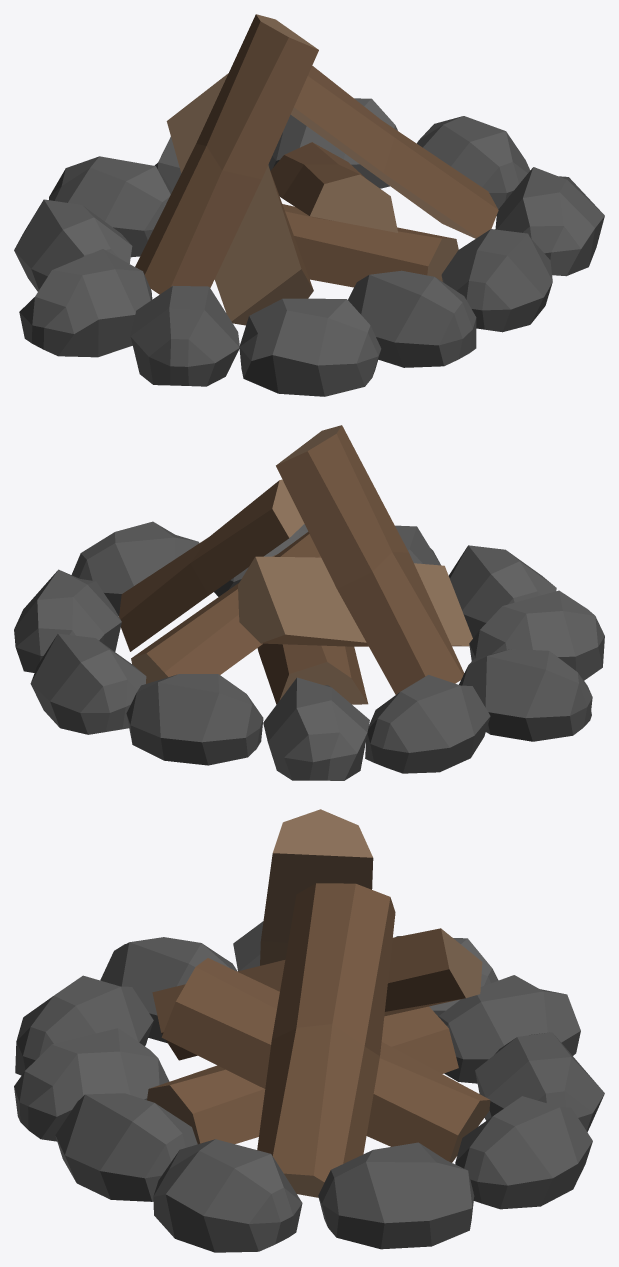
Rendered from Campfire.fbx.
3 renders of one model, top to bottom at view 1: azimuth 30°, elevation 25°; view 2: azimuth 150°, elevation 25°; view 3: azimuth 270°, elevation 25°, orthographic. The views are drawn at different scales.
Visible parts, largest first — view 1: Campfire, Logs; view 2: Campfire, Logs; view 3: Campfire, Logs.
Part boxes in pixels (box(x1,y1,x2,y2)): Campfire: box(14, 98, 604, 396); Logs: box(135, 14, 498, 325); Campfire: box(14, 521, 604, 780); Logs: box(119, 425, 472, 704); Campfire: box(14, 921, 604, 1252); Logs: box(147, 809, 490, 1197).
Size of the model in its own units: 2.26 by 1.05 by 1.94.
